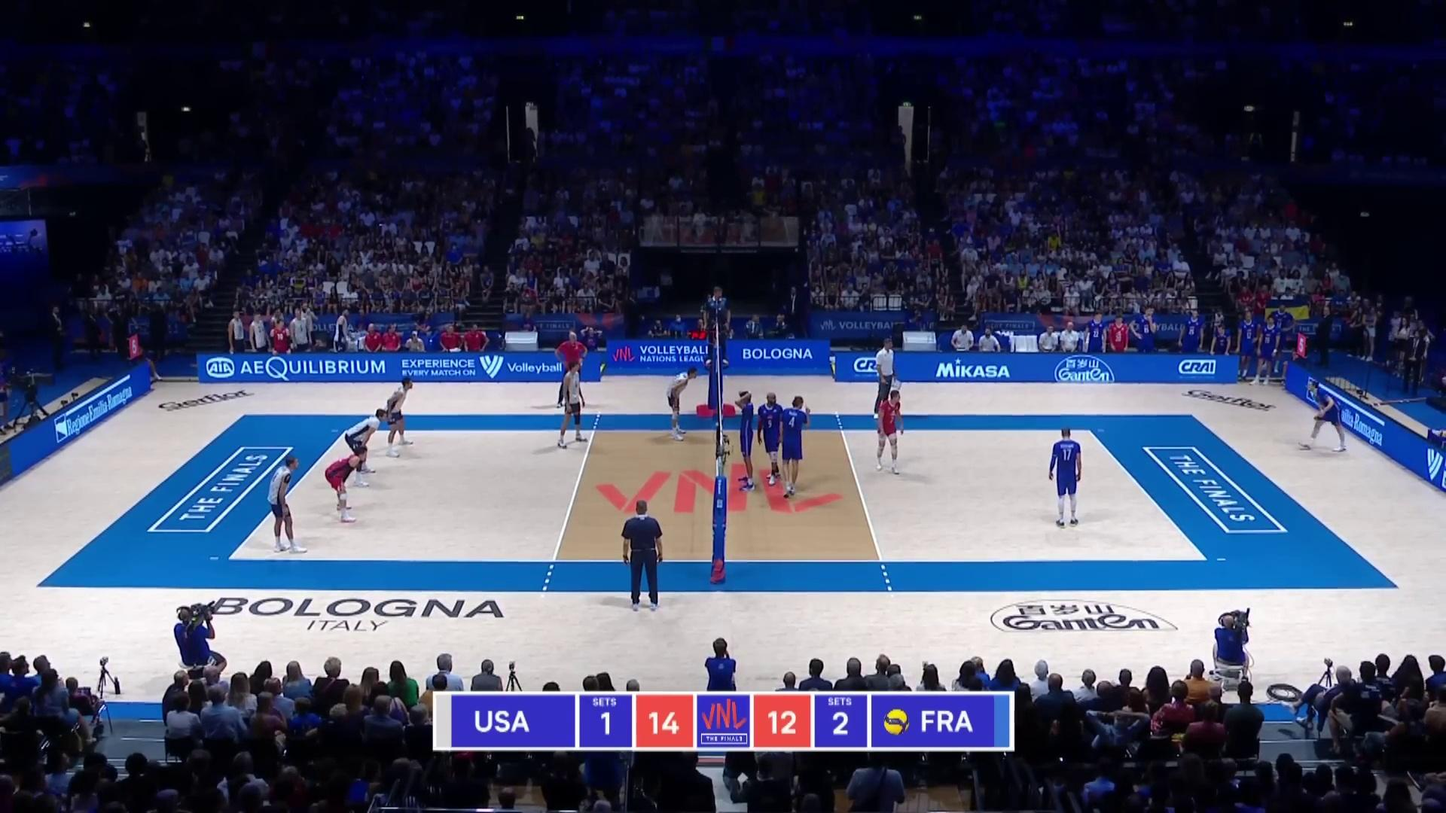player: (268, 454, 308, 554), (1047, 427, 1082, 528), (1297, 382, 1344, 453), (346, 411, 387, 485), (327, 444, 364, 525), (782, 398, 810, 500), (756, 392, 784, 489), (874, 387, 903, 475), (557, 365, 586, 450), (730, 389, 755, 485), (384, 379, 413, 457), (664, 367, 694, 442)
refree: (622, 501, 665, 614), (704, 286, 731, 364)
